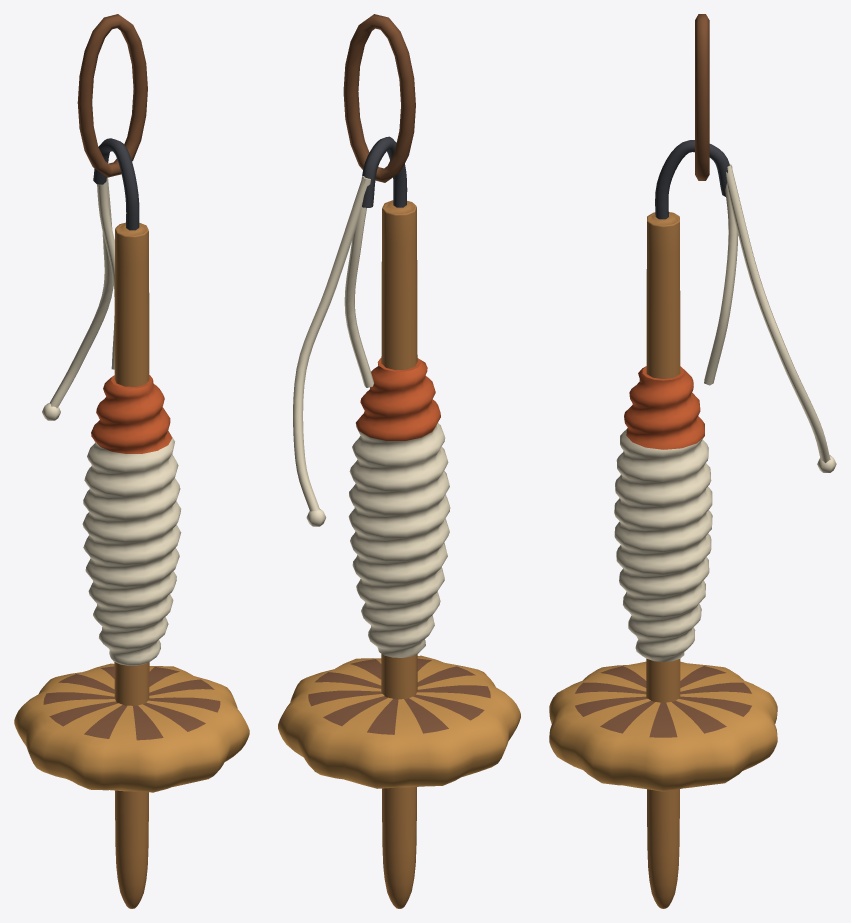
The model's file is tool_spindle.fbx.
3 views of the same model, side by side, from view 1: azimuth 30°, elevation 25°; view 2: azimuth 150°, elevation 25°; view 3: azimuth 270°, elevation 25° (orthographic). The views are drawn at different scales.
Parts seen in each view (by area): view 1: Tool_Spindle_Cop, Tool_Spindle_Whorl, Tool_Spindle_Shaft, Tool_Spindle_Yarn, Tool_Spindle_Hook; view 2: Tool_Spindle_Cop, Tool_Spindle_Whorl, Tool_Spindle_Shaft, Tool_Spindle_Yarn, Tool_Spindle_Hook; view 3: Tool_Spindle_Cop, Tool_Spindle_Whorl, Tool_Spindle_Shaft, Tool_Spindle_Yarn, Tool_Spindle_Hook.
Boxes of the visible parts, bbox=[...] form: Tool_Spindle_Cop: bbox=[82, 375, 181, 665]; Tool_Spindle_Whorl: bbox=[14, 663, 249, 792]; Tool_Spindle_Shaft: bbox=[114, 222, 149, 908]; Tool_Spindle_Yarn: bbox=[42, 14, 147, 420]; Tool_Spindle_Hook: bbox=[93, 138, 139, 230]; Tool_Spindle_Cop: bbox=[348, 358, 450, 657]; Tool_Spindle_Whorl: bbox=[278, 655, 520, 788]; Tool_Spindle_Shaft: bbox=[381, 200, 417, 908]; Tool_Spindle_Yarn: bbox=[293, 14, 415, 526]; Tool_Spindle_Hook: bbox=[362, 136, 407, 207]; Tool_Spindle_Cop: bbox=[614, 366, 712, 661]; Tool_Spindle_Whorl: bbox=[549, 661, 777, 791]; Tool_Spindle_Shaft: bbox=[646, 212, 680, 908]; Tool_Spindle_Yarn: bbox=[695, 14, 836, 472]; Tool_Spindle_Hook: bbox=[655, 140, 729, 219].
Size of the model in its own units: 11.75 by 48.05 by 14.07.
